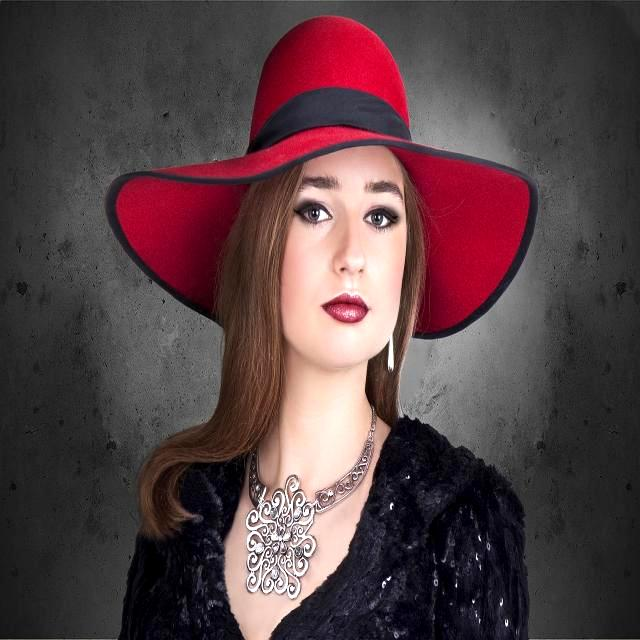no_hard_hat: (106, 16, 538, 339)
person: (119, 147, 529, 639)
